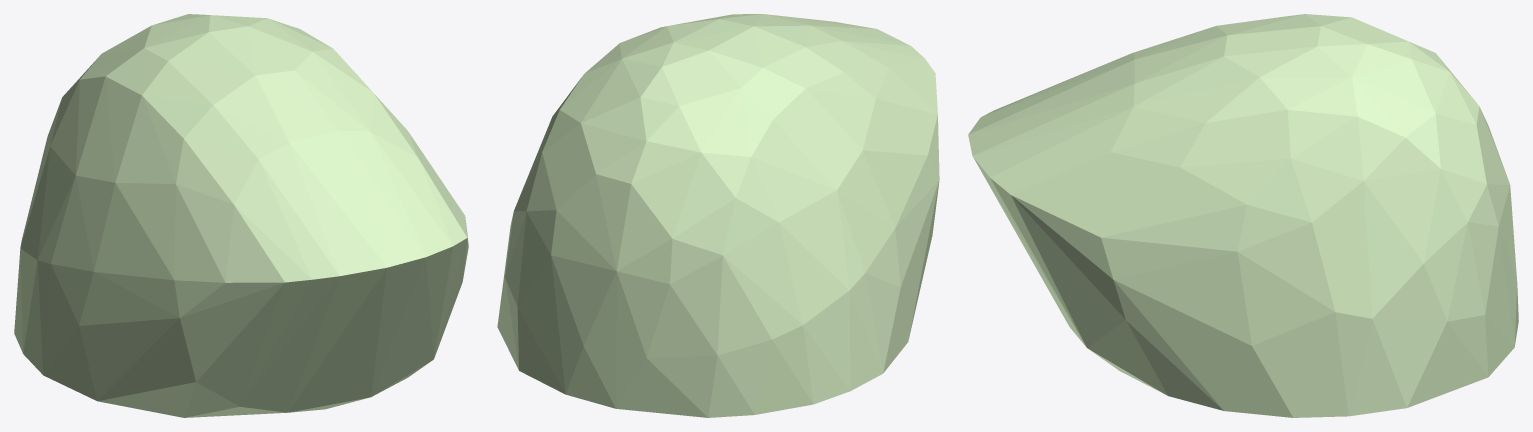
Rendered from iiwa_link3_resp_coll_1.obj.
3 renders of one model, left to right at view 1: azimuth 30°, elevation 25°; view 2: azimuth 150°, elevation 25°; view 3: azimuth 270°, elevation 25°, orthographic. The views are drawn at different scales.
Visible parts, largest first — view 1: node; view 2: node; view 3: node.
Boxes of the visible parts, x1,y1,x2,y2 form: node: [14, 14, 468, 417]; node: [497, 14, 939, 417]; node: [968, 14, 1518, 417].
Size of the model in its own units: 0.1715 by 0.1321 by 0.2222.
